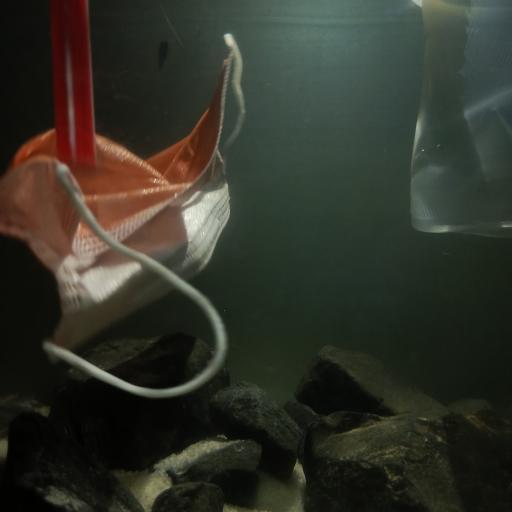mask: (0, 32, 248, 395)
plastic_cup: (407, 0, 512, 240)
plastic_straw: (47, 0, 99, 165)
